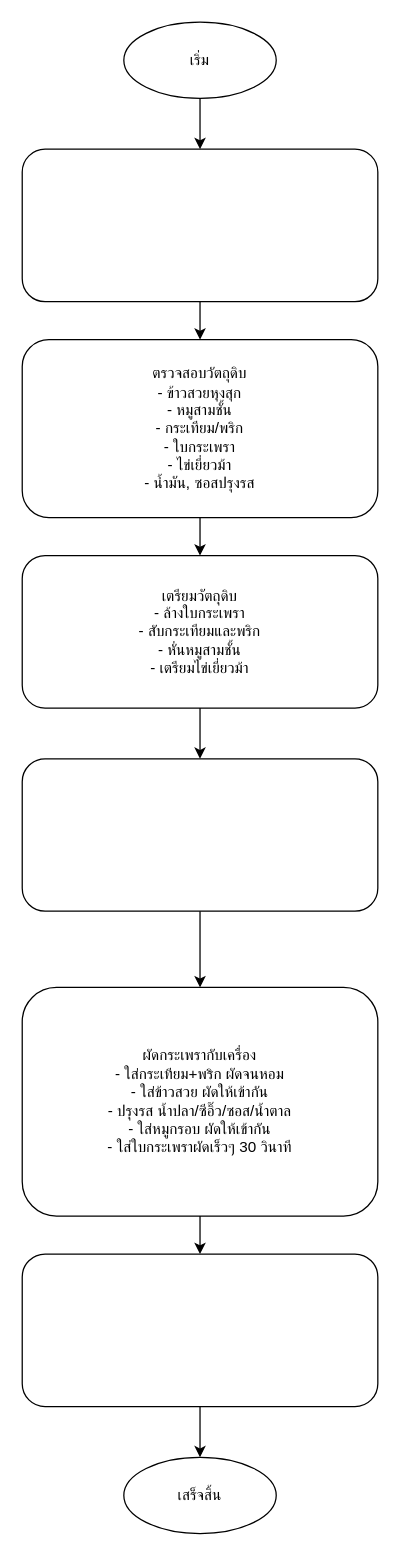
Image size: 400x1556. Some labels were removed from this diagram. The shapes that lost their labels are listed below. From the top down, each one's centre as x and y in pixels, then its label:
[199,225]: ตรวจสอบอุปกรณ์ครัว - กระทะ - หม้อหุงข้าว - เขียง - มีด - ทัพพี/ตะหลิว
[199,834]: ทอดหมูกรอบ - ตั้งกระทะ ใส่น้ำมัน - ใส่หมูสามชั้นทอดจนกรอบ - ตักขึ้นสะเด็ดน้ำมัน
[199,1330]: จัดเสิร์ฟ - ตักข้าวผัดลงจาน - วางไข่เยี่ยวม้าด้านข้าง/บน - โรยหมูกรอบเพิ่ม
